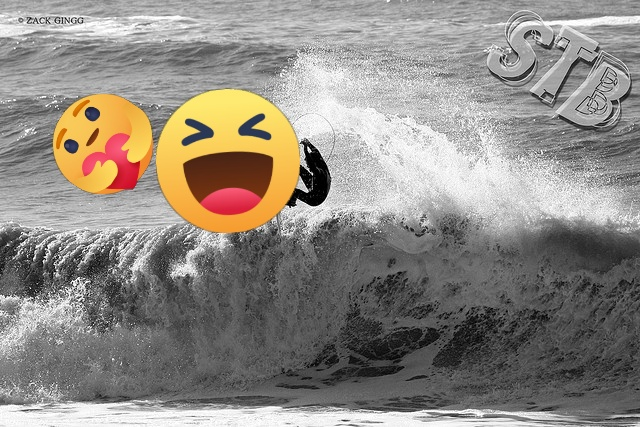care: (53, 94, 153, 194)
haha: (156, 89, 300, 233)
